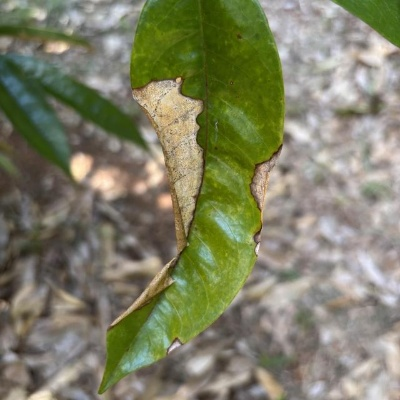Leaf_Blight: (96, 0, 287, 396)
